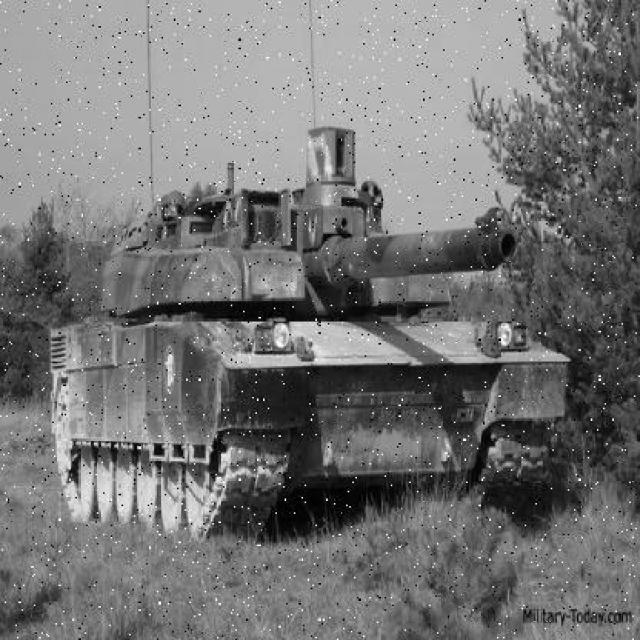Tank: (47, 124, 573, 546)
